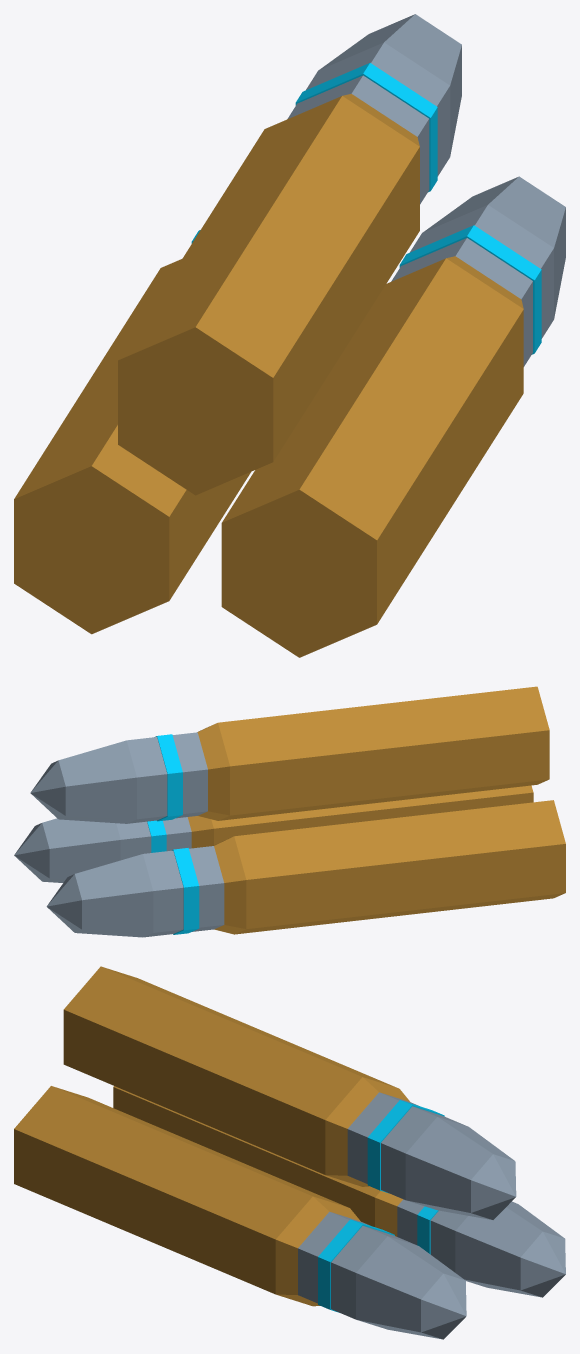
File: ce_ammo_heavy_emp_b.obj
3 views of the same model, one above another, from view 1: azimuth 30°, elevation 25°; view 2: azimuth 150°, elevation 25°; view 3: azimuth 270°, elevation 25° (orthographic). The views are drawn at different scales.
Visible parts, largest first — view 1: ce_ammo_heavy_emp_b_14, ce_ammo_heavy_emp_b_7, ce_ammo_heavy_emp_b_0, ce_ammo_heavy_emp_b_19, ce_ammo_heavy_emp_b_12, ce_ammo_heavy_emp_b_18, ce_ammo_heavy_emp_b_11, ce_ammo_heavy_emp_b_16, ce_ammo_heavy_emp_b_9, ce_ammo_heavy_emp_b_10, ce_ammo_heavy_emp_b_17; view 2: ce_ammo_heavy_emp_b_14, ce_ammo_heavy_emp_b_0, ce_ammo_heavy_emp_b_7, ce_ammo_heavy_emp_b_5, ce_ammo_heavy_emp_b_19, ce_ammo_heavy_emp_b_12, ce_ammo_heavy_emp_b_18, ce_ammo_heavy_emp_b_4, ce_ammo_heavy_emp_b_1, ce_ammo_heavy_emp_b_2, ce_ammo_heavy_emp_b_15, ce_ammo_heavy_emp_b_16 (+9 smaller); view 3: ce_ammo_heavy_emp_b_14, ce_ammo_heavy_emp_b_7, ce_ammo_heavy_emp_b_0, ce_ammo_heavy_emp_b_19, ce_ammo_heavy_emp_b_12, ce_ammo_heavy_emp_b_5, ce_ammo_heavy_emp_b_8, ce_ammo_heavy_emp_b_15, ce_ammo_heavy_emp_b_18, ce_ammo_heavy_emp_b_11, ce_ammo_heavy_emp_b_6, ce_ammo_heavy_emp_b_13 (+9 smaller).
Part boxes in pixels (<box>): ce_ammo_heavy_emp_b_14: <box>118,96,419,495</box>; ce_ammo_heavy_emp_b_7: <box>221,258,523,657</box>; ce_ammo_heavy_emp_b_0: <box>14,259,250,634</box>; ce_ammo_heavy_emp_b_19: <box>318,14,461,155</box>; ce_ammo_heavy_emp_b_12: <box>422,176,565,318</box>; ce_ammo_heavy_emp_b_18: <box>306,42,450,176</box>; ce_ammo_heavy_emp_b_11: <box>410,205,553,338</box>; ce_ammo_heavy_emp_b_16: <box>287,75,429,204</box>; ce_ammo_heavy_emp_b_9: <box>391,238,532,366</box>; ce_ammo_heavy_emp_b_10: <box>399,225,541,354</box>; ce_ammo_heavy_emp_b_17: <box>295,63,437,192</box>; ce_ammo_heavy_emp_b_14: <box>218,686,549,820</box>; ce_ammo_heavy_emp_b_0: <box>234,800,565,934</box>; ce_ammo_heavy_emp_b_7: <box>211,785,533,845</box>; ce_ammo_heavy_emp_b_5: <box>75,854,153,937</box>; ce_ammo_heavy_emp_b_19: <box>58,740,136,823</box>; ce_ammo_heavy_emp_b_12: <box>42,818,120,882</box>; ce_ammo_heavy_emp_b_18: <box>126,737,167,823</box>; ce_ammo_heavy_emp_b_4: <box>143,850,183,937</box>; ce_ammo_heavy_emp_b_1: <box>213,836,246,934</box>; ce_ammo_heavy_emp_b_2: <box>189,846,224,931</box>; ce_ammo_heavy_emp_b_15: <box>197,723,229,820</box>; ce_ammo_heavy_emp_b_16: <box>172,732,207,818</box>; ce_ammo_heavy_emp_b_14: <box>63,966,398,1174</box>; ce_ammo_heavy_emp_b_7: <box>14,1086,347,1294</box>; ce_ammo_heavy_emp_b_0: <box>113,1086,380,1226</box>; ce_ammo_heavy_emp_b_19: <box>405,1117,514,1219</box>; ce_ammo_heavy_emp_b_12: <box>356,1236,465,1339</box>; ce_ammo_heavy_emp_b_5: <box>455,1202,564,1297</box>; ce_ammo_heavy_emp_b_8: <box>275,1196,360,1306</box>; ce_ammo_heavy_emp_b_15: <box>325,1077,409,1186</box>; ce_ammo_heavy_emp_b_18: <box>381,1106,467,1199</box>; ce_ammo_heavy_emp_b_11: <box>331,1226,416,1319</box>; ce_ammo_heavy_emp_b_6: <box>520,1231,565,1297</box>; ce_ammo_heavy_emp_b_13: <box>421,1273,466,1339</box>.
Size of the model in its own units: 0.8643 by 0.36 by 0.8643.
